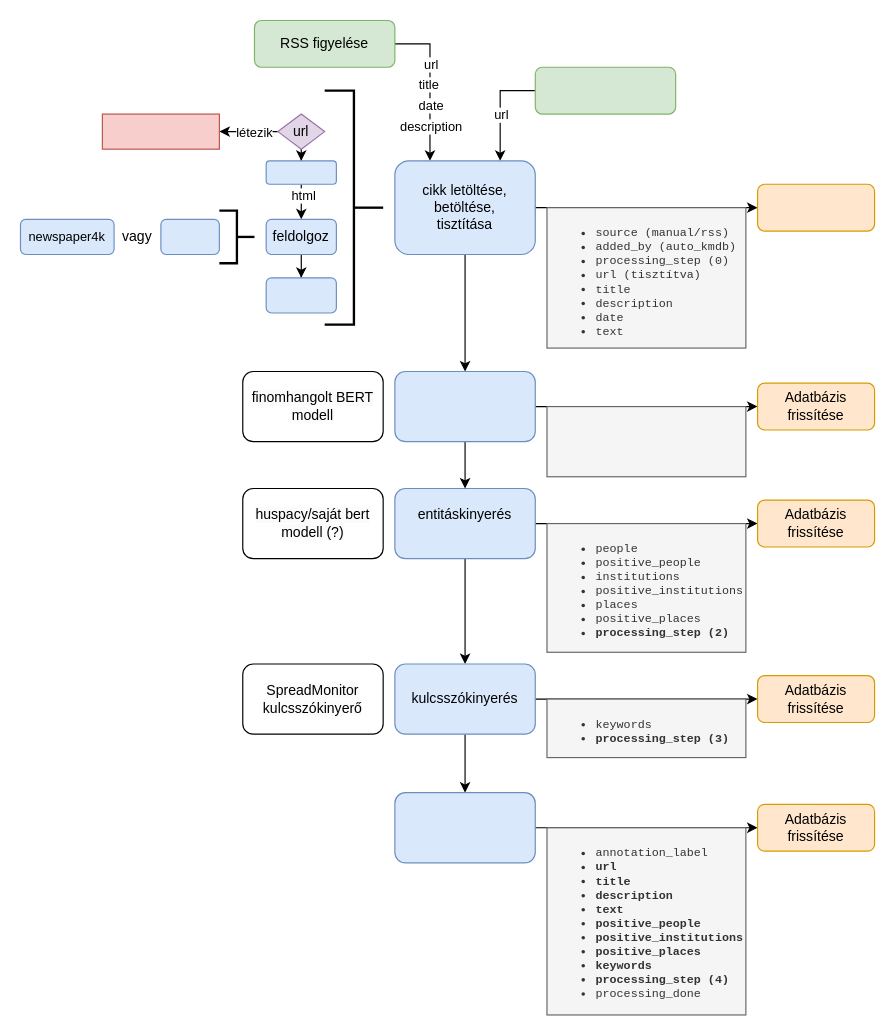
The diagram is 895 pixels wide and 1035 high, and some of its shapes have lost their labels. The shapes that lost their labels are listed below. From the top down, each one's box as (x1, y1, x2, y2) in pixels, then its label:
(534, 66, 676, 114): Manuális cikk hozzáadás
(101, 113, 219, 149): eldobjuk a cikket
(265, 160, 336, 184): letölt
(756, 183, 875, 231): Felvétel az adatbázisba
(160, 218, 219, 254): saját parser
(265, 277, 336, 313): szöveg tisztítás
(394, 370, 535, 442): automata klasszifikáció
(546, 405, 746, 477): classification_score classification_label processing_step (1)
(394, 792, 535, 863): Emberi felülvizsgálat
